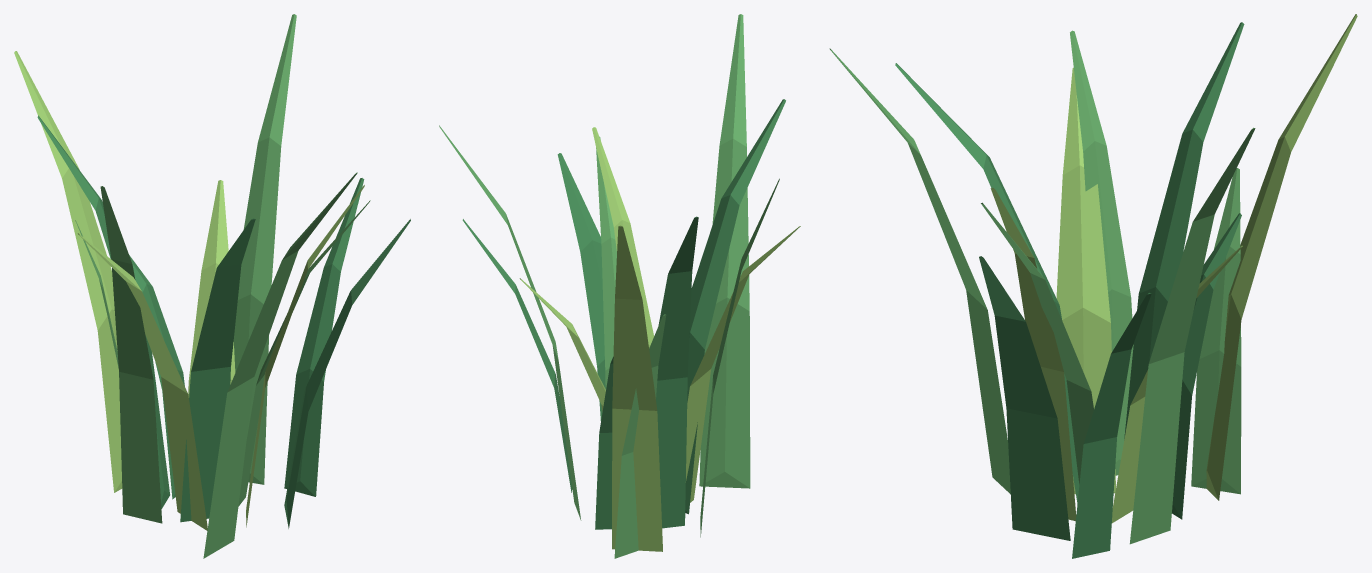
The model's file is grass_tussock_b.glb.
3 renders of one model, left to right at view 1: azimuth 30°, elevation 25°; view 2: azimuth 150°, elevation 25°; view 3: azimuth 270°, elevation 25°, orthographic. The views are drawn at different scales.
Visible parts, largest first — view 1: GrassTussockB; view 2: GrassTussockB; view 3: GrassTussockB.
Boxes of the visible parts, x1,y1,x2,y2 form: GrassTussockB: (14,14,410,558); GrassTussockB: (439,14,800,558); GrassTussockB: (829,14,1357,558).
Bounding box in the file's own units: 0.6735 × 0.8499 × 0.859.
